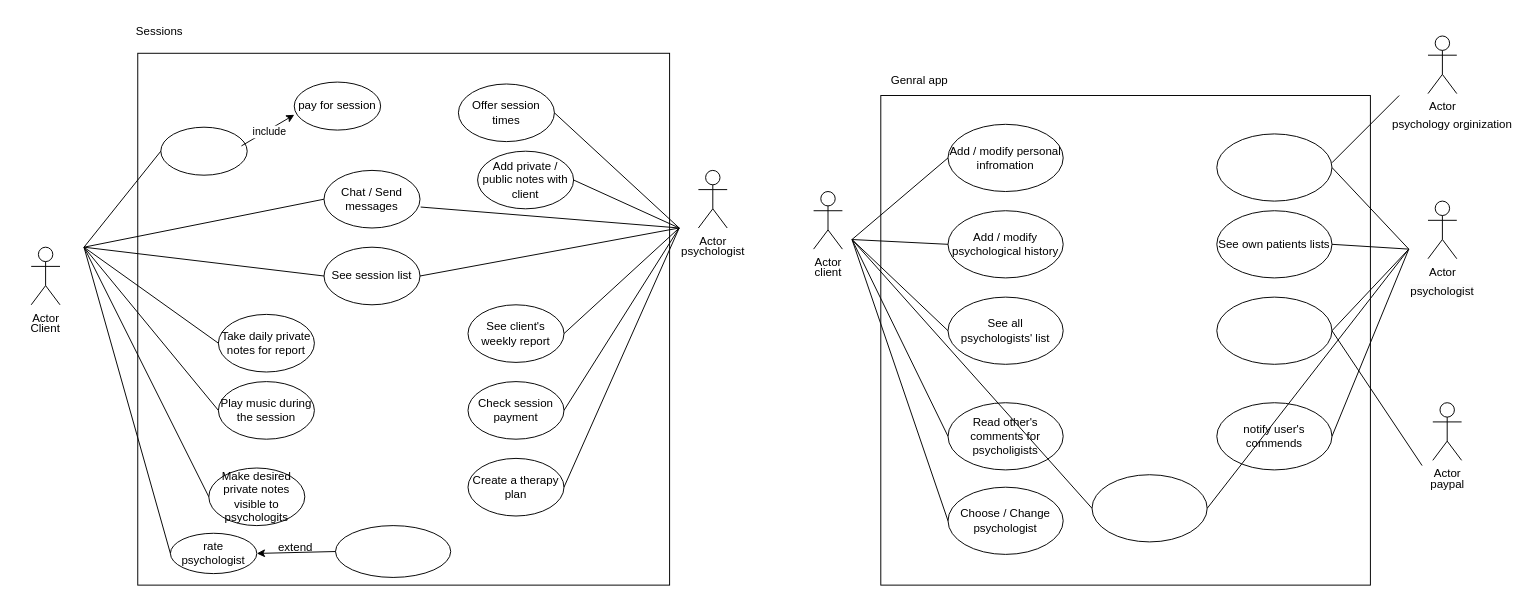
Some shapes in this 1540 by 602 pixel diagram are drawn without their labels. The shapes that lost their labels are listed below. From the top down, each one's centre as x and y in pixels, then its label:
At point 203,150: "Choose a time between offered times".
At point 1274,167: "Add personal information".
At point 1274,330: "get payment notify".
At point 1149,508: "get session reminder before session".
At point 393,551: "Add public comments for psychologist".
